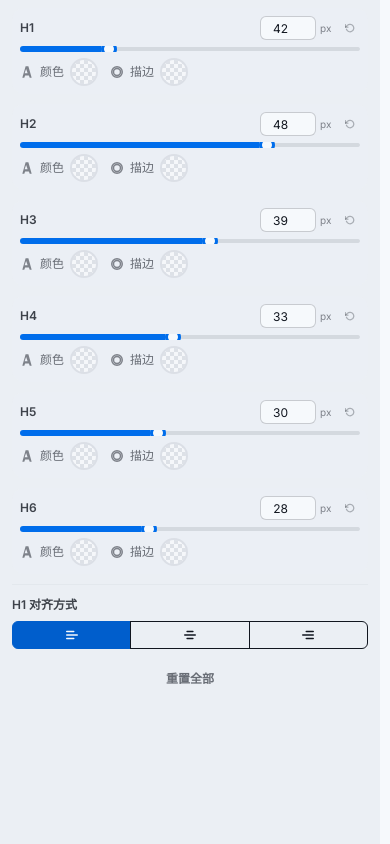
Test: HeadingStylePanel › updates number input value when slider changes
Set the slider with id "heading-size-slider-h1" to "48" at (128, 49), box [20, 46, 360, 52]
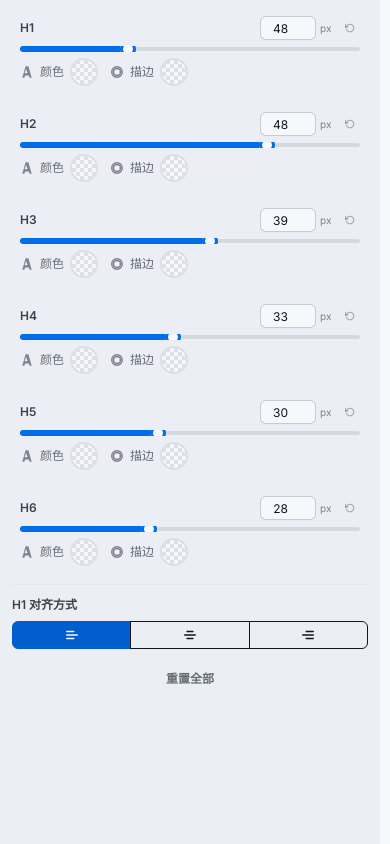
expect the number field with id "heading-size-input-h1" holds "48": met, box [260, 16, 316, 40]
